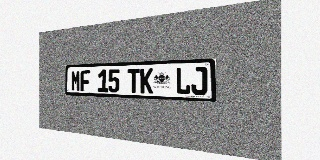1: (98, 69, 108, 92)
5: (108, 69, 119, 93)
F: (80, 70, 90, 92)
J: (191, 67, 207, 95)
K: (140, 68, 153, 94)
L: (176, 67, 191, 95)
M: (71, 70, 80, 91)
T: (128, 69, 140, 93)
